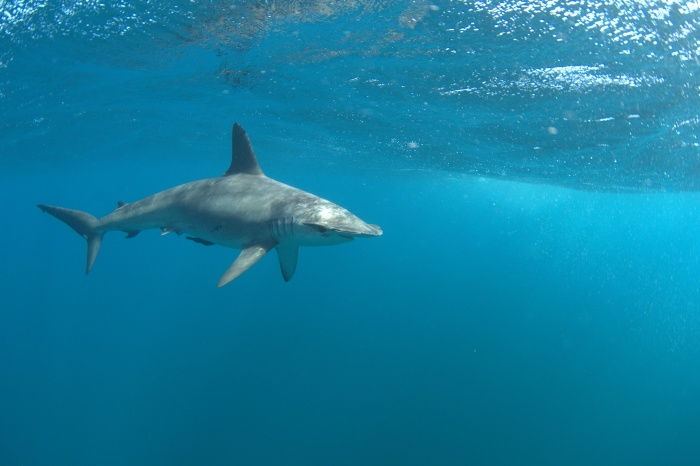Hammer: (29, 118, 398, 318)
